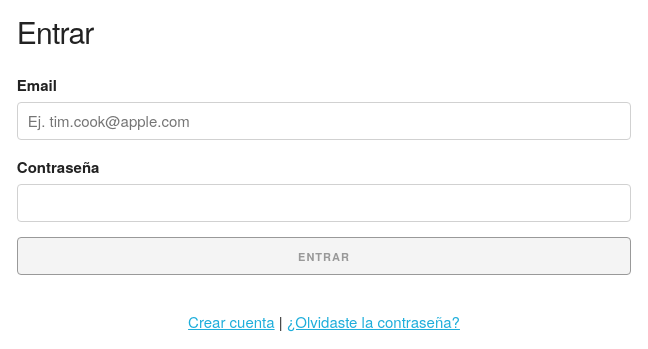
it: EntrarComponent › mientras espera la respuesta no deja enviar otra vez y, al contestar, vuelve a permitirlo
This screenshot has width=648, height=349.
Type "ana@test.es" into the field labelled "Email" at (324, 120), box [17,102,631,140]
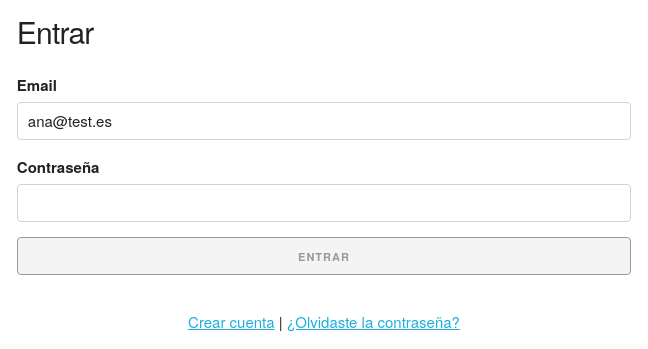
Type "secreto123" into the password field labelled "Contraseña" at (324, 202), box [17,184,631,222]
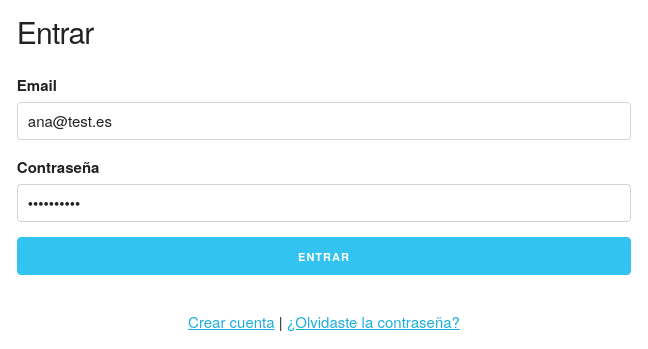
Click the submit button at (324, 256), box [17,236,631,274]
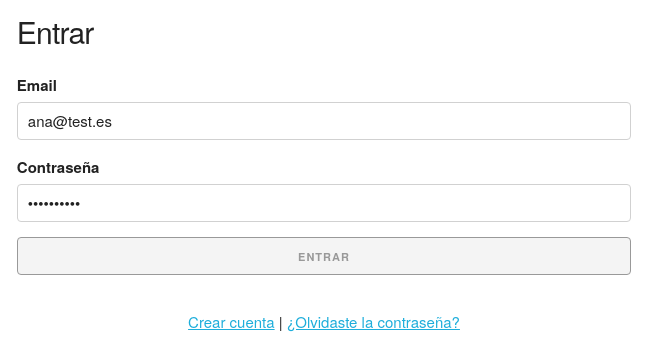
Result: the submit button is disabled at [17,236,631,274]
Submit the form, box [17,72,631,284]
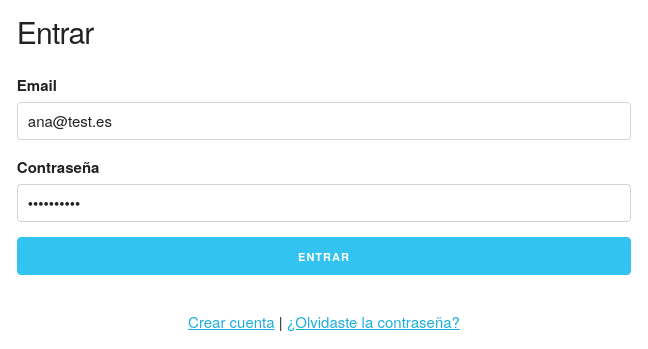
Result: the submit button is enabled at [17,236,631,274]
